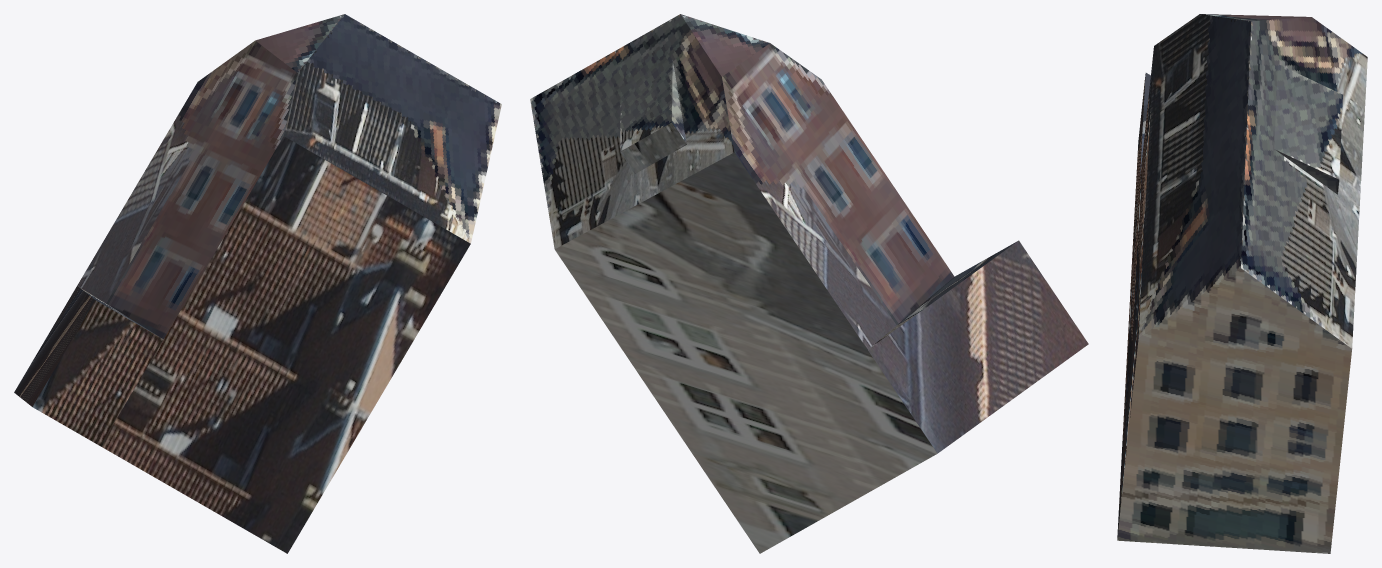
3 views of the same model, side by side, from view 1: azimuth 30°, elevation 25°; view 2: azimuth 150°, elevation 25°; view 3: azimuth 270°, elevation 25° (orthographic). The views are drawn at different scales.
Parts seen in each view (by area): view 1: BAG_0599100000760362 (×6); view 2: BAG_0599100000760362 (×6); view 3: BAG_0599100000760362 (×6).
Part boxes in pixels (bbox=[...]): BAG_0599100000760362 (×6): bbox=[14, 14, 501, 553]; BAG_0599100000760362 (×6): bbox=[530, 14, 1088, 553]; BAG_0599100000760362 (×6): bbox=[1117, 14, 1367, 553].
Size of the model in its own units: 20.88 by 18.88 by 7.15.
Materials: 1 (1 with a texture image).
